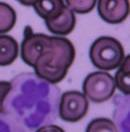N: (0, 72, 61, 131)
